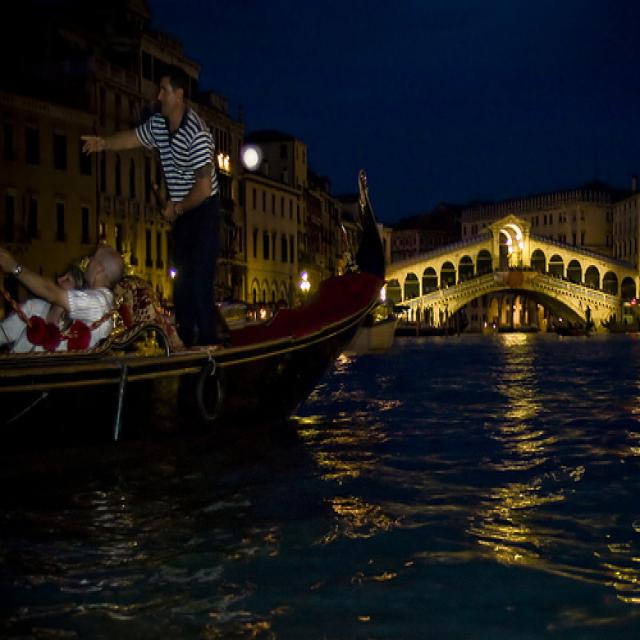Boat: (0, 181, 444, 505)
People: (153, 55, 237, 329), (35, 243, 129, 354)
